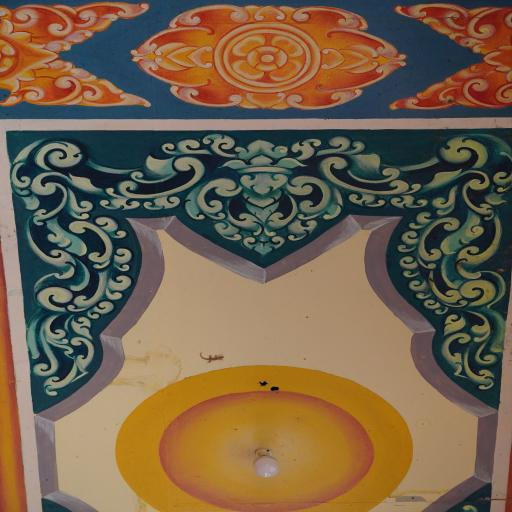hoa: (126, 4, 416, 122), (0, 0, 156, 116), (391, 3, 512, 121)
la: (103, 136, 431, 262), (6, 132, 148, 412), (384, 134, 512, 404)
